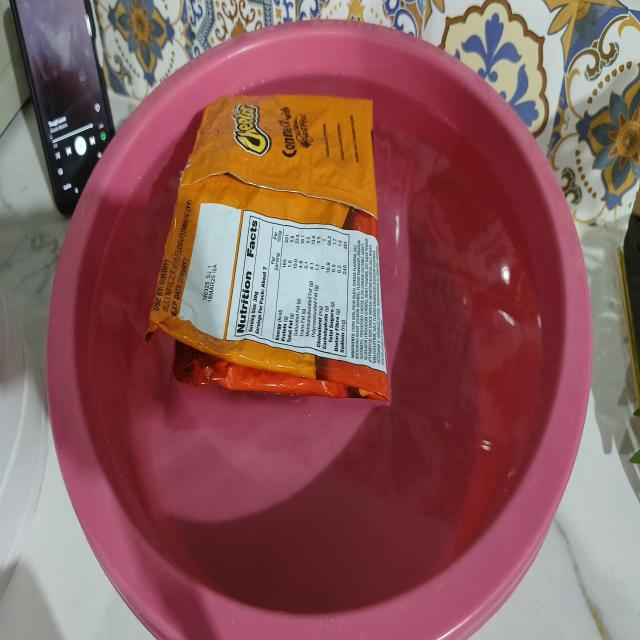Plastic Wrapper: (134, 58, 403, 442)
